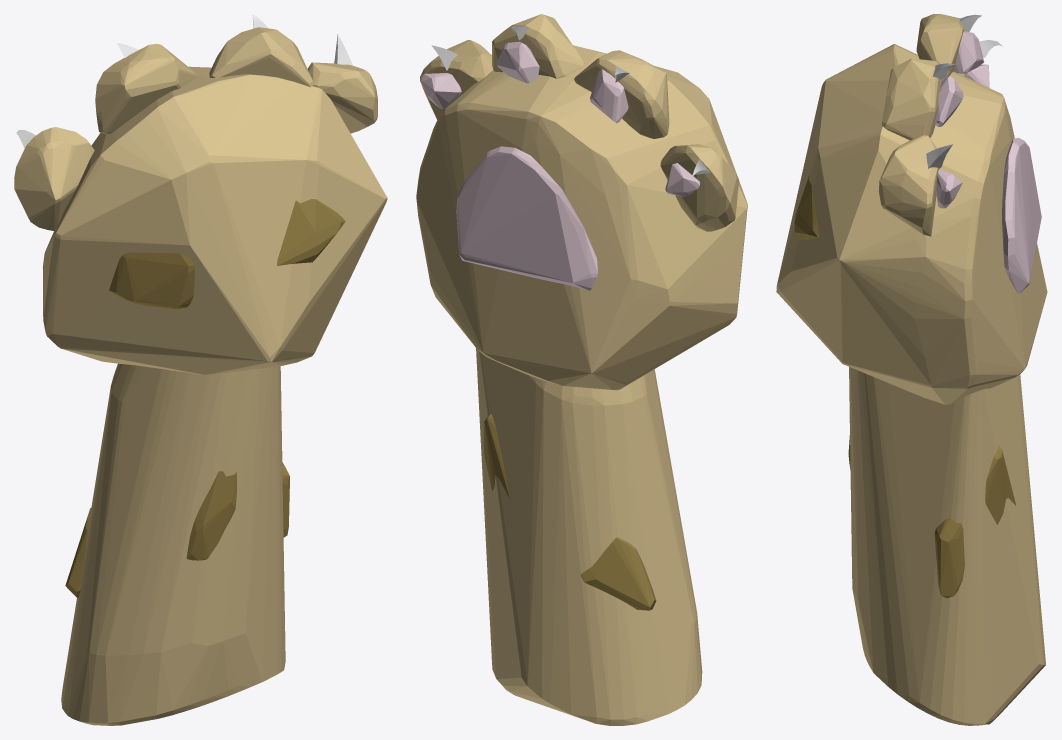
File: brown paw.fbx
The picture shows the model from 3 angles, left to right: view 1: azimuth 30°, elevation 25°; view 2: azimuth 150°, elevation 25°; view 3: azimuth 270°, elevation 25°; orthographic projection. The views are drawn at different scales.
Parts seen in each view (by area): view 1: brush_ShinyHull_g0_b0_0, brush_Spikes_g0_b0_3; view 2: brush_ShinyHull_g0_b0_0, brush_Spikes_g0_b0_3; view 3: brush_ShinyHull_g0_b0_0, brush_Spikes_g0_b0_3.
Part boxes in pixels (x1,y1,x2,y2): brush_ShinyHull_g0_b0_0: (14, 27, 387, 725); brush_Spikes_g0_b0_3: (16, 14, 352, 148); brush_ShinyHull_g0_b0_0: (416, 14, 747, 725); brush_Spikes_g0_b0_3: (431, 25, 710, 176); brush_ShinyHull_g0_b0_0: (776, 14, 1047, 725); brush_Spikes_g0_b0_3: (926, 14, 1002, 168).
Size of the model in its own units: 23.58 by 44.4 by 16.34.
